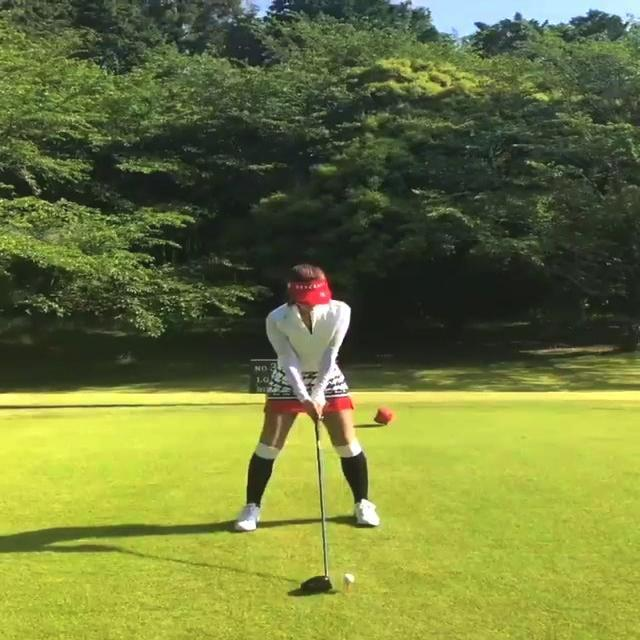ClubHead: (299, 575, 333, 592)
GolfBall: (344, 571, 355, 585)
